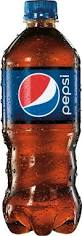bottle: (2, 2, 80, 232)
pepsi: (20, 72, 61, 118), (60, 74, 73, 120)
plastic: (3, 1, 81, 233)
